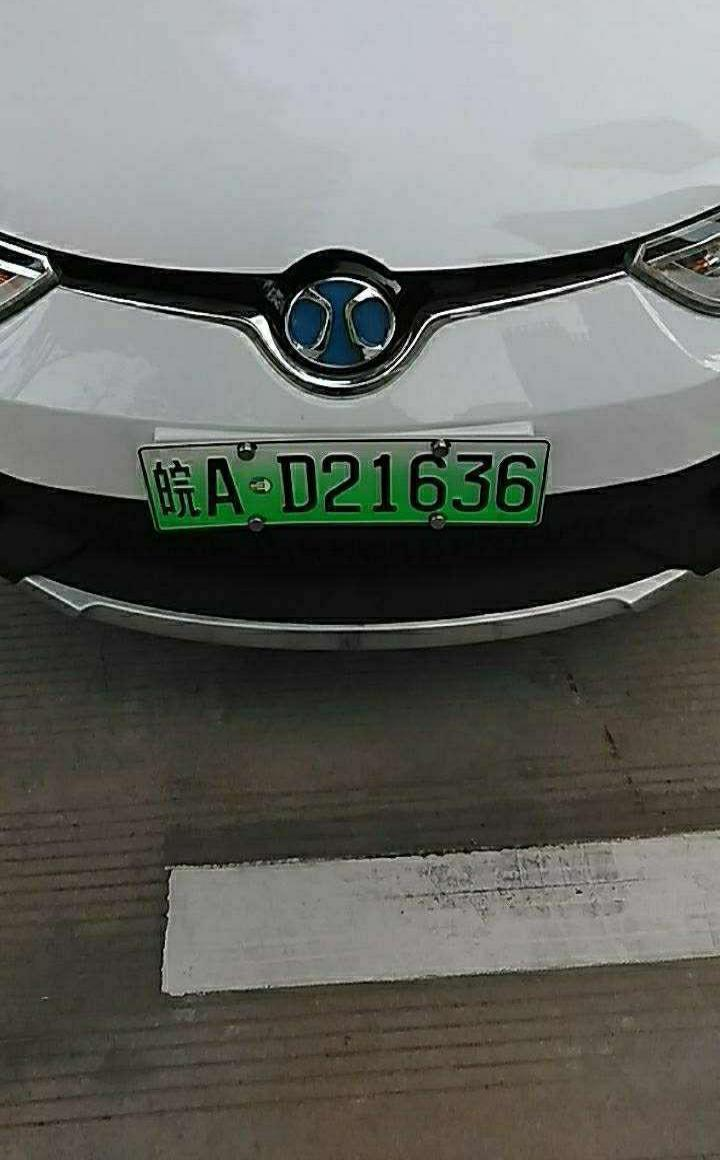car: (129, 444, 564, 546)
